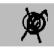not correct: (20, 6, 48, 46)
